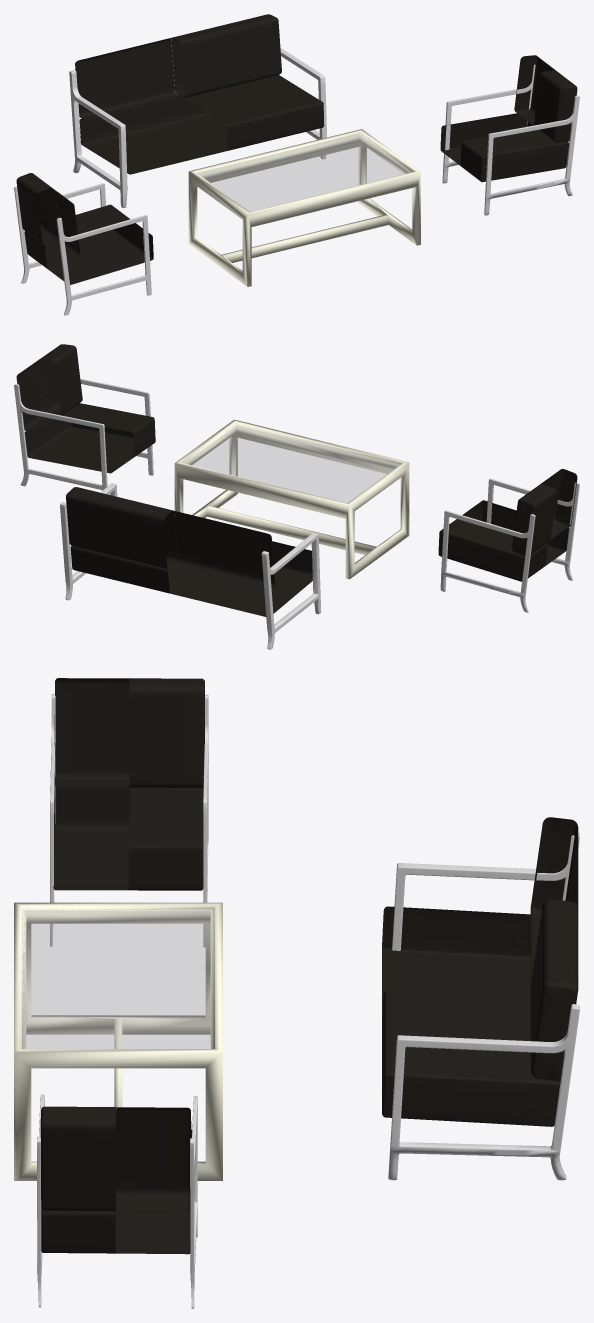
File: Sofa + Table.fbx
The picture shows the model from 3 angles, top to bottom: view 1: azimuth 30°, elevation 25°; view 2: azimuth 150°, elevation 25°; view 3: azimuth 270°, elevation 25°; orthographic projection. The views are drawn at different scales.
Parts seen in each view (by area): view 1: Obj_000007#1.006; view 2: Obj_000007#1.006; view 3: Obj_000007#1.006.
Boxes of the visible parts, x1,y1,x2,y2 form: Obj_000007#1.006: (14, 14, 579, 315); Obj_000007#1.006: (14, 344, 579, 649); Obj_000007#1.006: (14, 678, 579, 1308).
Bounding box in the file's own units: 625 × 133 × 333.
